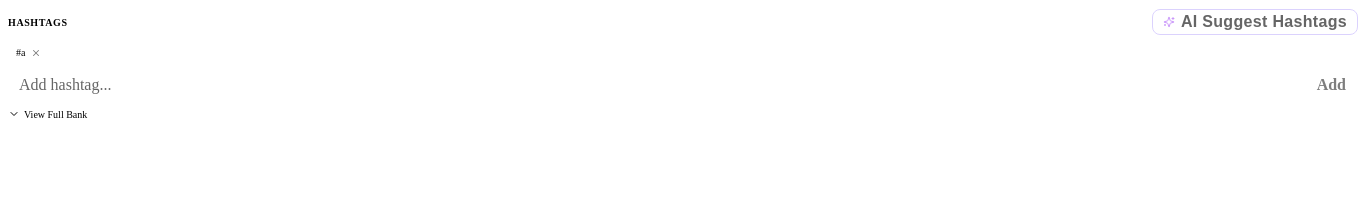
PkgHashtagBankComponent › disabled state: chip-remove + bank chips + add input + add button all read-only / disabled
Click the button with class "bank-toggle" at (48, 114), box [8,108,87,120]
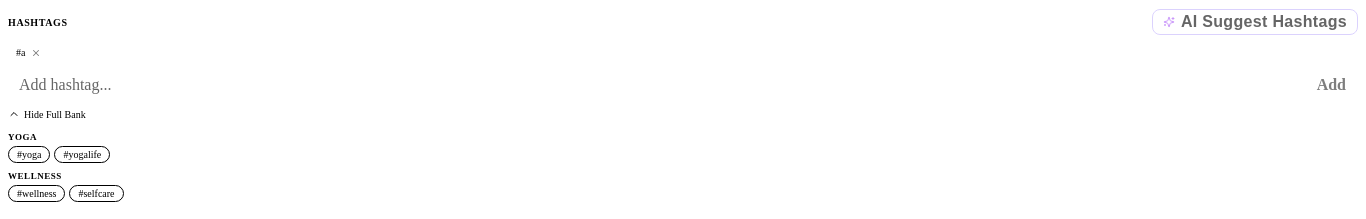
expect the button with class "chip-remove" is disabled: met, box [30,46,44,60]
expect the button with class "bank-chip" showing "#yogalife" is disabled: met, box [54,146,110,163]
